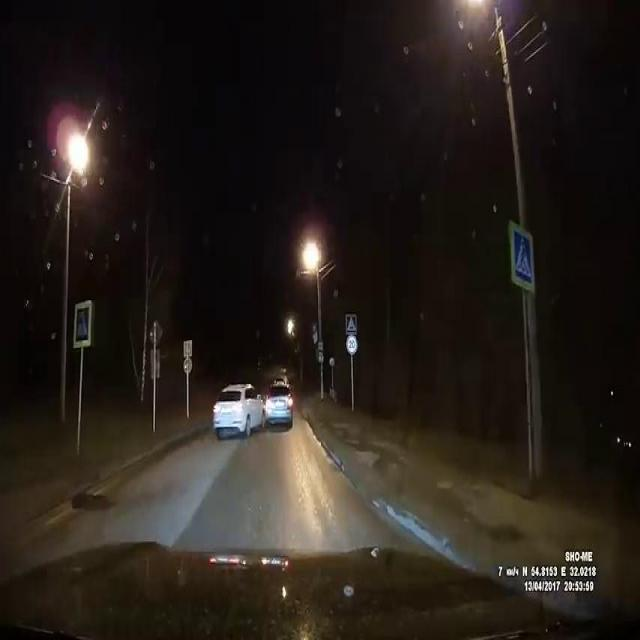accident: (210, 369, 296, 444)
